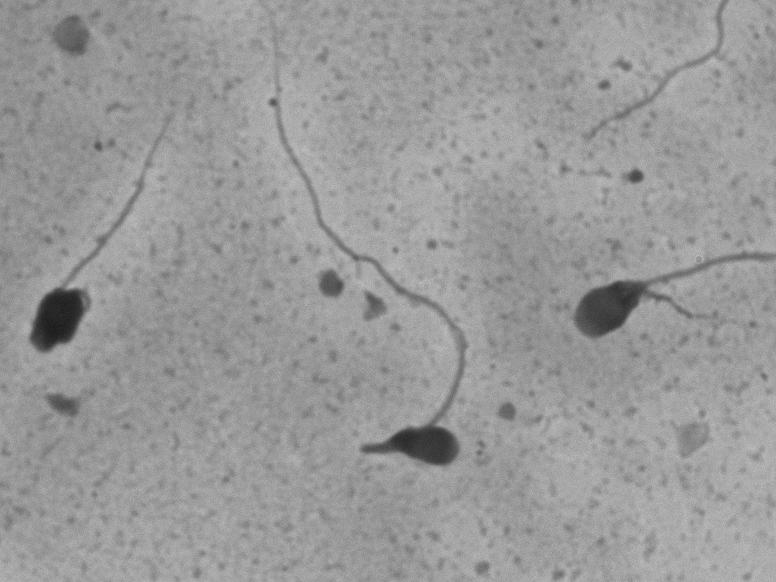Abnormal: (275, 98, 530, 490), (5, 94, 222, 372), (559, 176, 759, 380)
